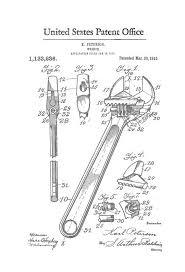wrench: (58, 73, 157, 238), (44, 73, 62, 203)
